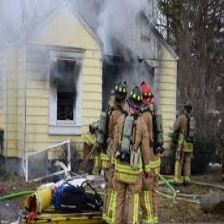smoke: (8, 1, 164, 69)
